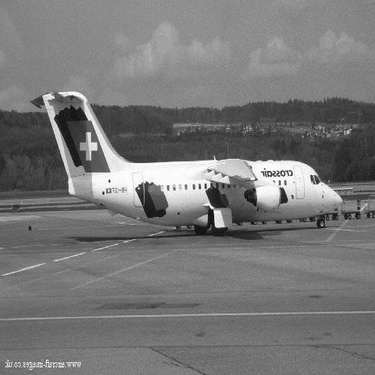airplane: (23, 80, 357, 240)
